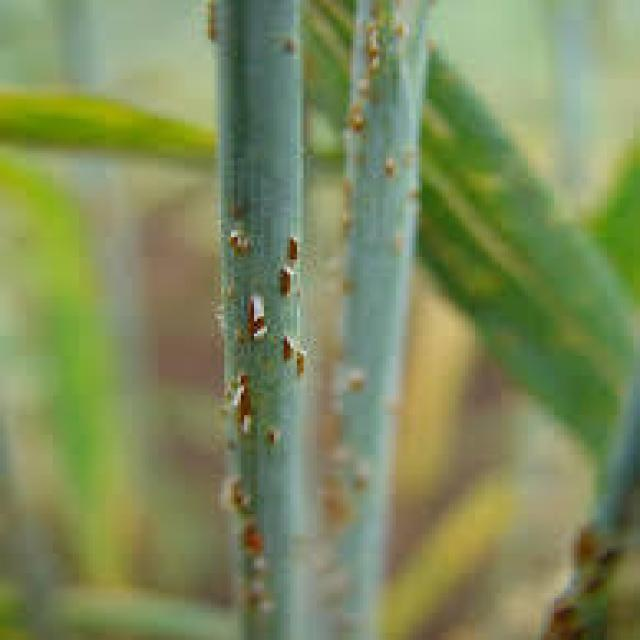Stem Rust: (208, 211, 331, 640)
